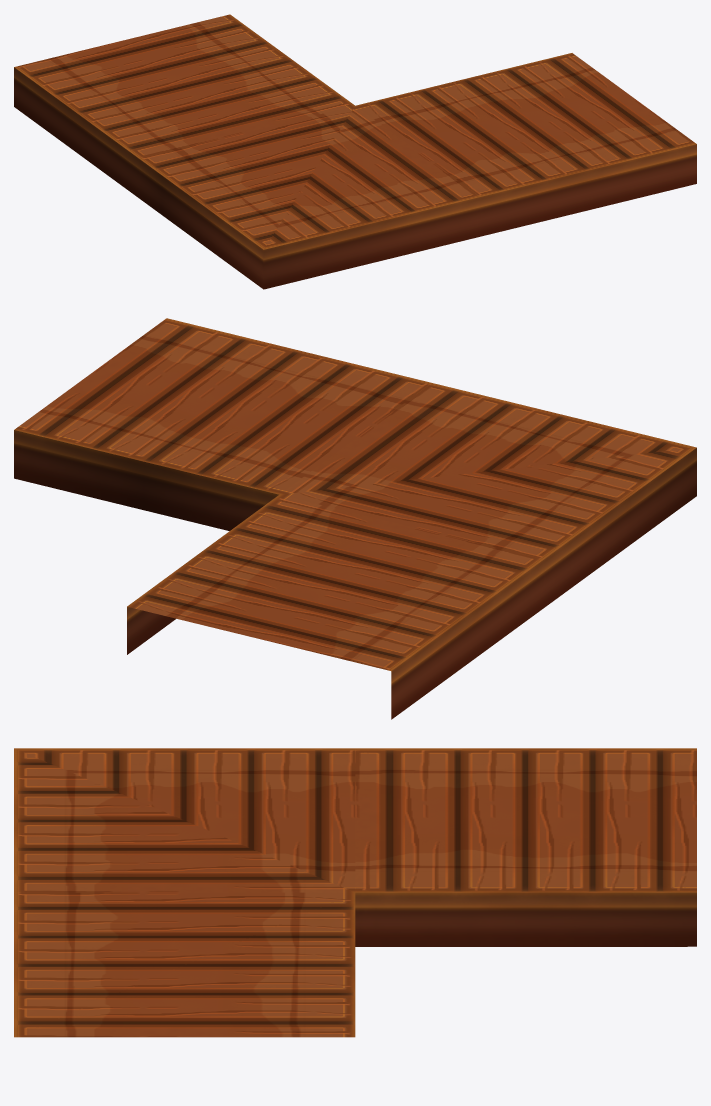
File: Wheel_Bridge_01.FBX
3 views of the same model, one above another, from view 1: azimuth 30°, elevation 25°; view 2: azimuth 150°, elevation 25°; view 3: azimuth 270°, elevation 25° (orthographic). The views are drawn at different scales.
Visible parts, largest first — view 1: Wheel_Bridge_01; view 2: Wheel_Bridge_01; view 3: Wheel_Bridge_01.
Boxes of the visible parts, box(x1,y1,x2,y2) form: Wheel_Bridge_01: box(14, 14, 696, 289); Wheel_Bridge_01: box(14, 318, 696, 719); Wheel_Bridge_01: box(14, 748, 696, 1037).
Size of the model in its own units: 66.48 by 5.82 by 66.36.
